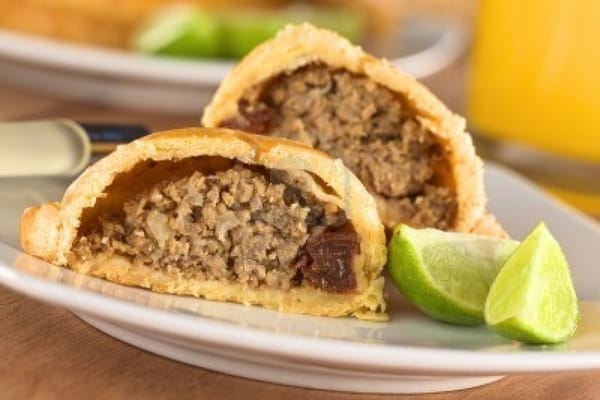soup: (130, 21, 508, 318), (16, 126, 390, 321), (200, 21, 505, 238)
